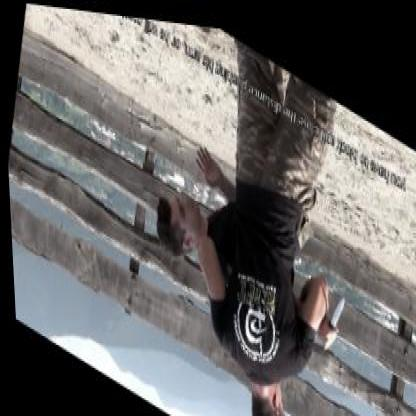knife: (314, 269, 349, 353)
